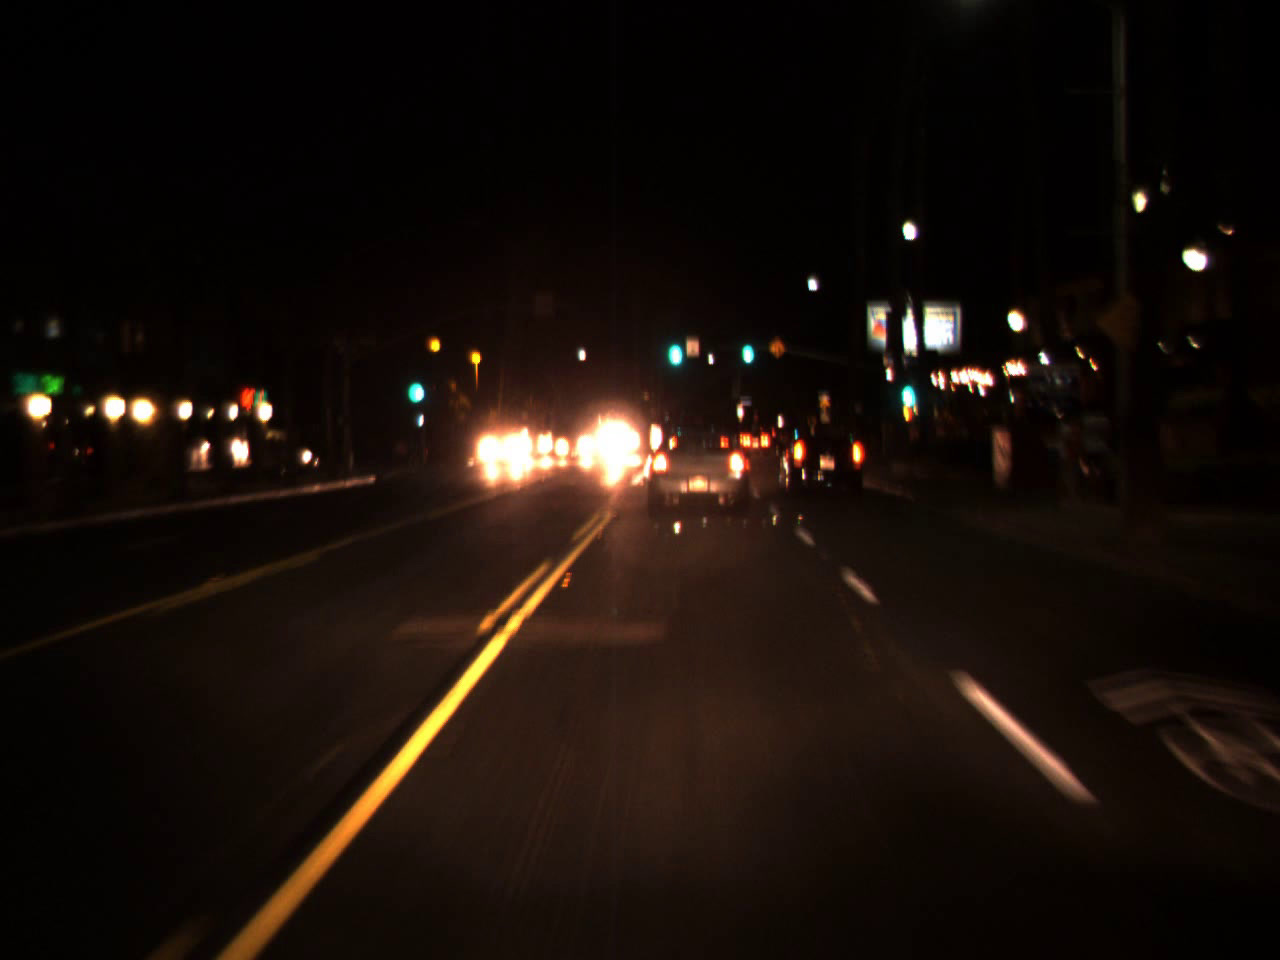go: (891, 363, 921, 411), (664, 317, 685, 374), (404, 357, 425, 411), (739, 326, 755, 365)
